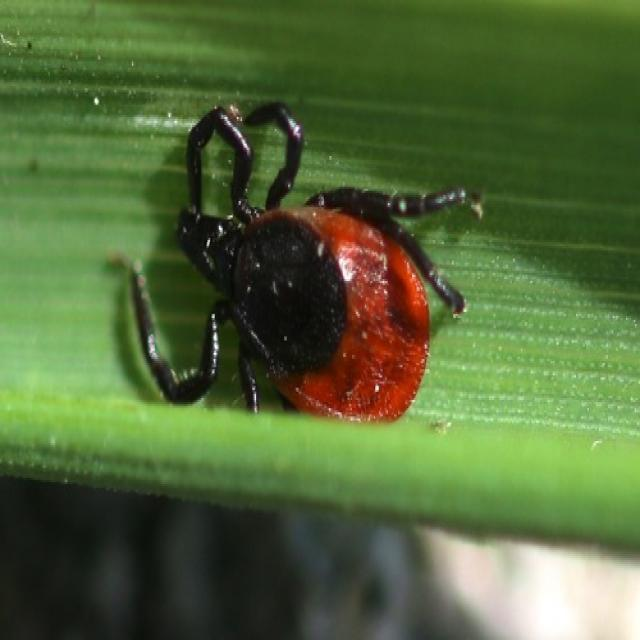Ixodes Ricinus-F: (127, 103, 486, 427)
